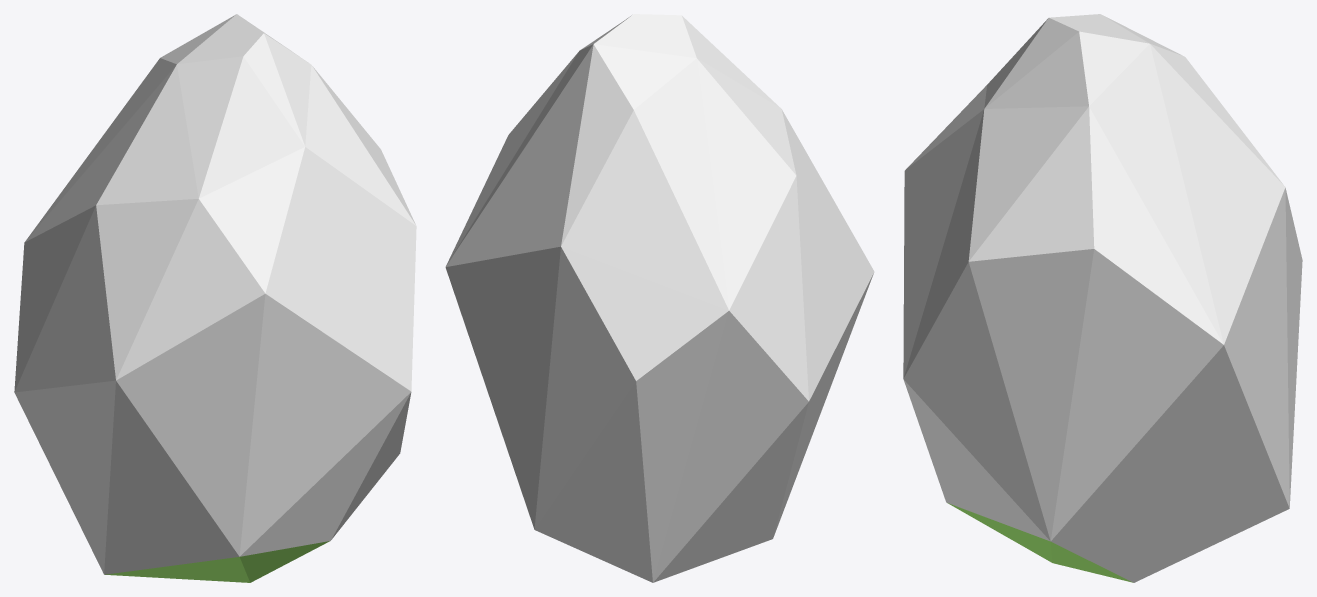
Rendered from Thuja_BushTree_s_Snow_04.fbx.
The picture shows the model from 3 angles, left to right: view 1: azimuth 30°, elevation 25°; view 2: azimuth 150°, elevation 25°; view 3: azimuth 270°, elevation 25°; orthographic projection. The views are drawn at different scales.
Visible parts, largest first — view 1: Thuja_BushTree_s_Snow_04; view 2: Thuja_BushTree_s_Snow_04; view 3: Thuja_BushTree_s_Snow_04.
Part boxes in pixels (x1,y1,x2,y2): Thuja_BushTree_s_Snow_04: (14, 14, 416, 582); Thuja_BushTree_s_Snow_04: (445, 14, 874, 582); Thuja_BushTree_s_Snow_04: (903, 14, 1302, 582).
Size of the model in its own units: 145 by 215 by 143.
